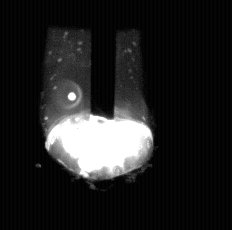arame: (92, 0, 116, 124)
poca: (46, 0, 154, 230)
